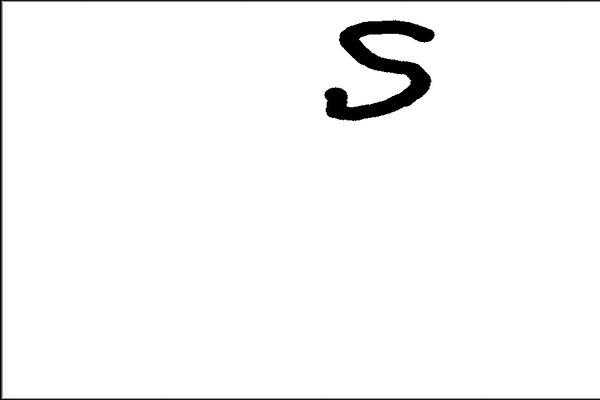S: (318, 14, 443, 128)
